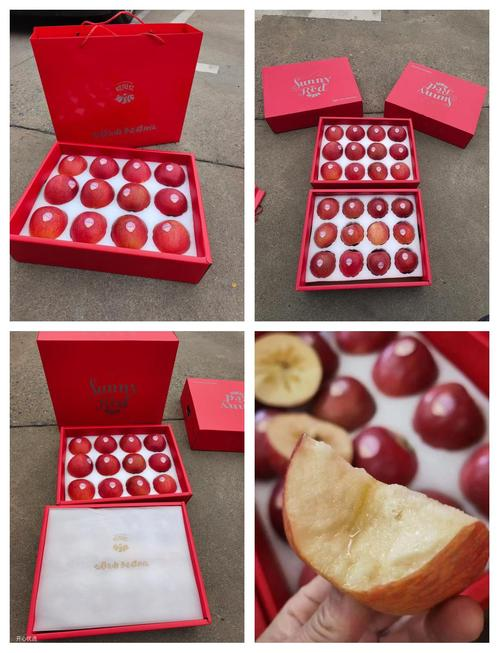ripe: (410, 381, 485, 451), (360, 338, 443, 401), (23, 203, 72, 242), (113, 180, 157, 218), (153, 218, 195, 257), (68, 207, 107, 247), (153, 180, 192, 218), (110, 215, 147, 250), (43, 170, 77, 205), (88, 148, 125, 180), (152, 153, 187, 185), (57, 142, 88, 177), (122, 148, 153, 182), (82, 182, 110, 208)
